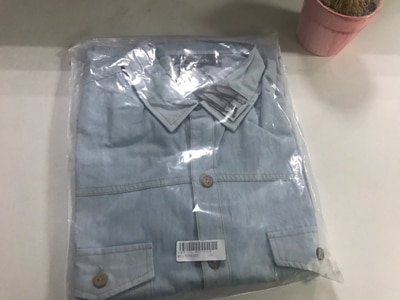shirts: (83, 42, 312, 291)
